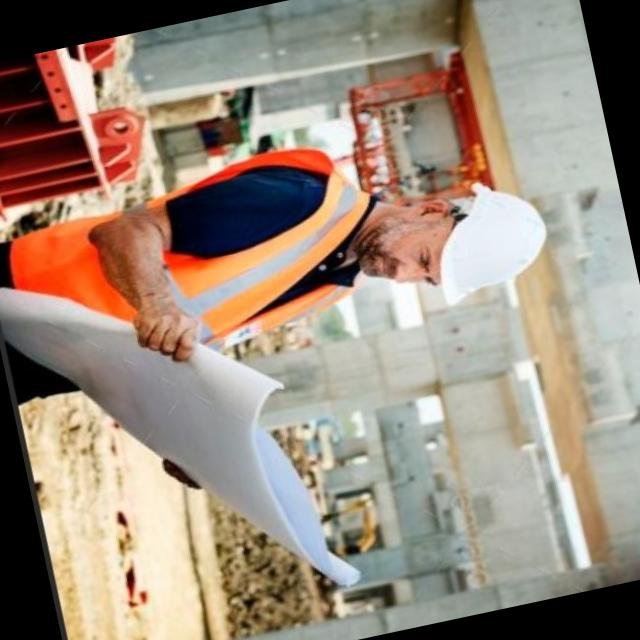not-gloved: (124, 295, 206, 371)
